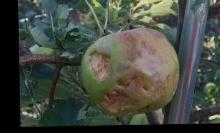rotten apple: (81, 24, 179, 118)
